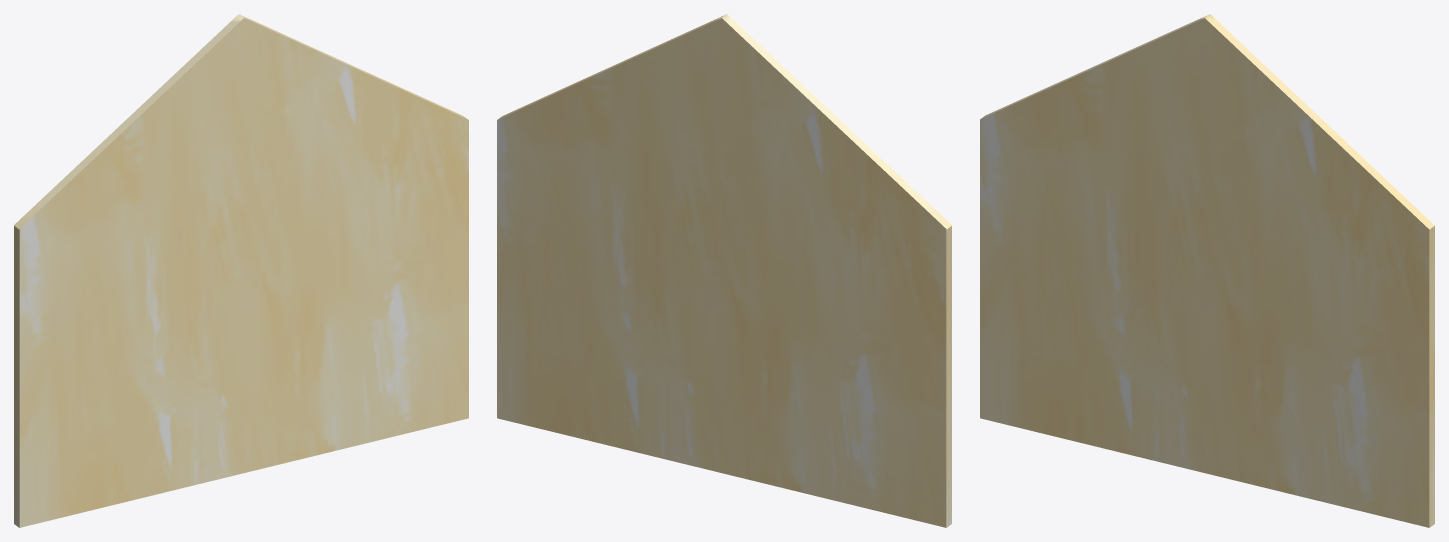
The model's file is House1Wall2.fbx.
3 renders of one model, left to right at view 1: azimuth 30°, elevation 25°; view 2: azimuth 150°, elevation 25°; view 3: azimuth 330°, elevation 25°, orthographic.
Visible parts, largest first — view 1: front1; view 2: front1; view 3: front1.
Boxes of the visible parts, x1,y1,x2,y2 form: front1: [14, 14, 468, 527]; front1: [497, 14, 951, 527]; front1: [980, 14, 1434, 527].
Size of the model in its own units: 9.36 by 9.06 by 0.1971.
Materials: 1 (1 with a texture image).
